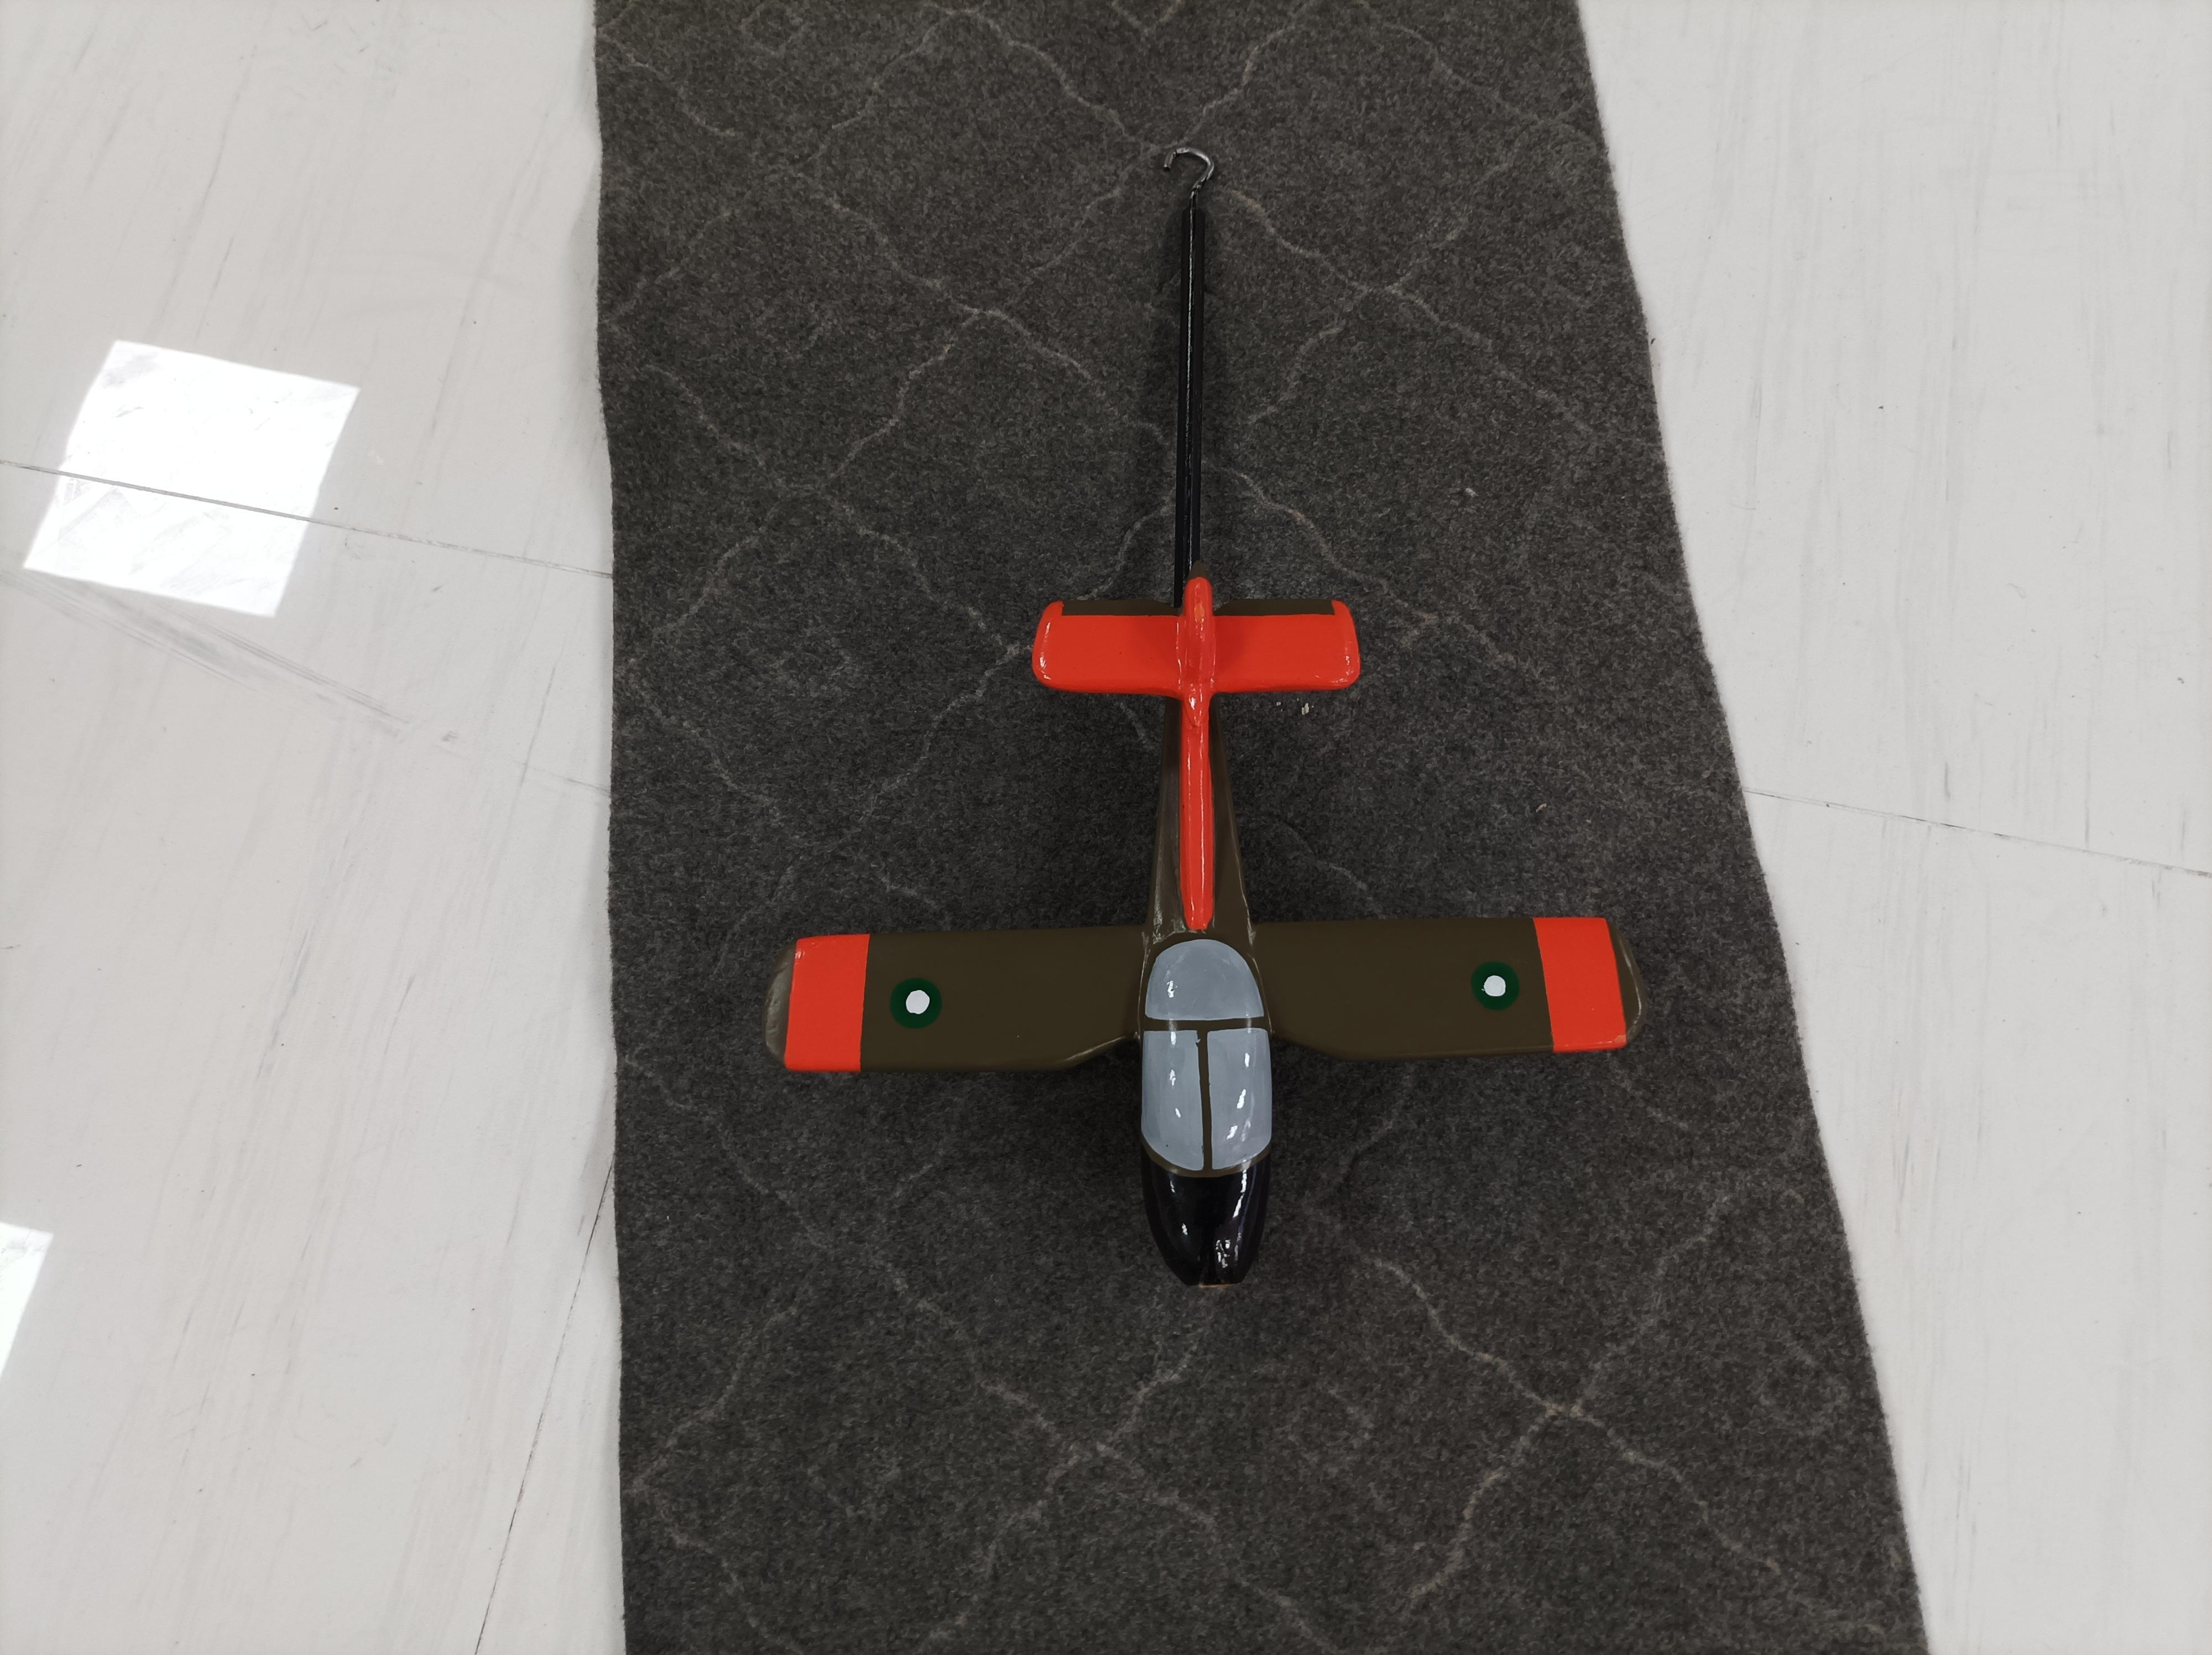Airplane: (721, 553, 1668, 1309)
